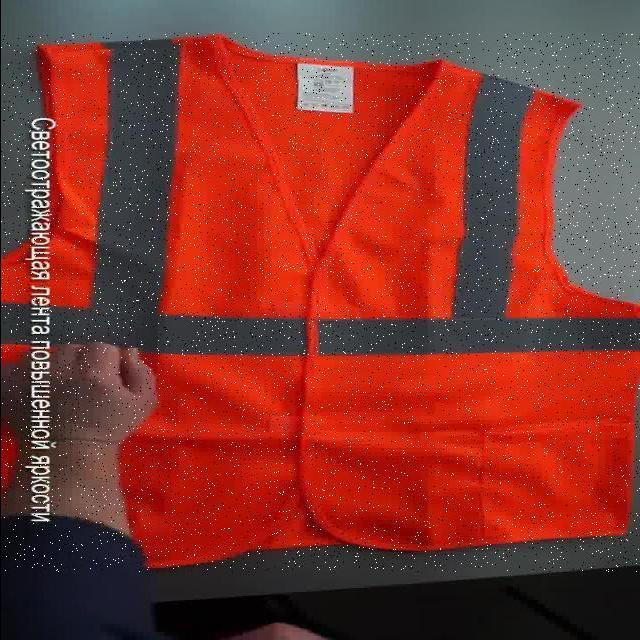vest: (0, 33, 640, 572)
